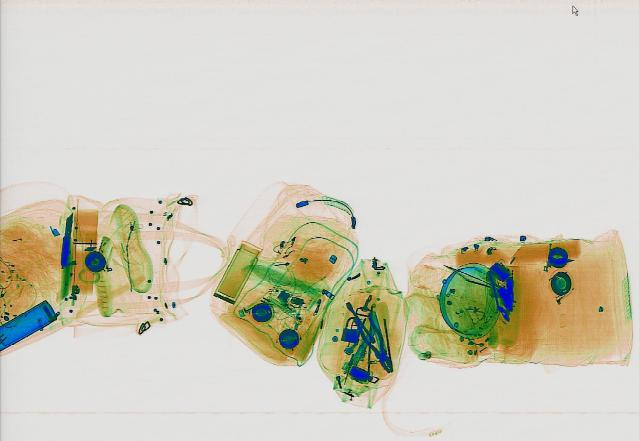Pliers: (348, 310, 400, 373)
